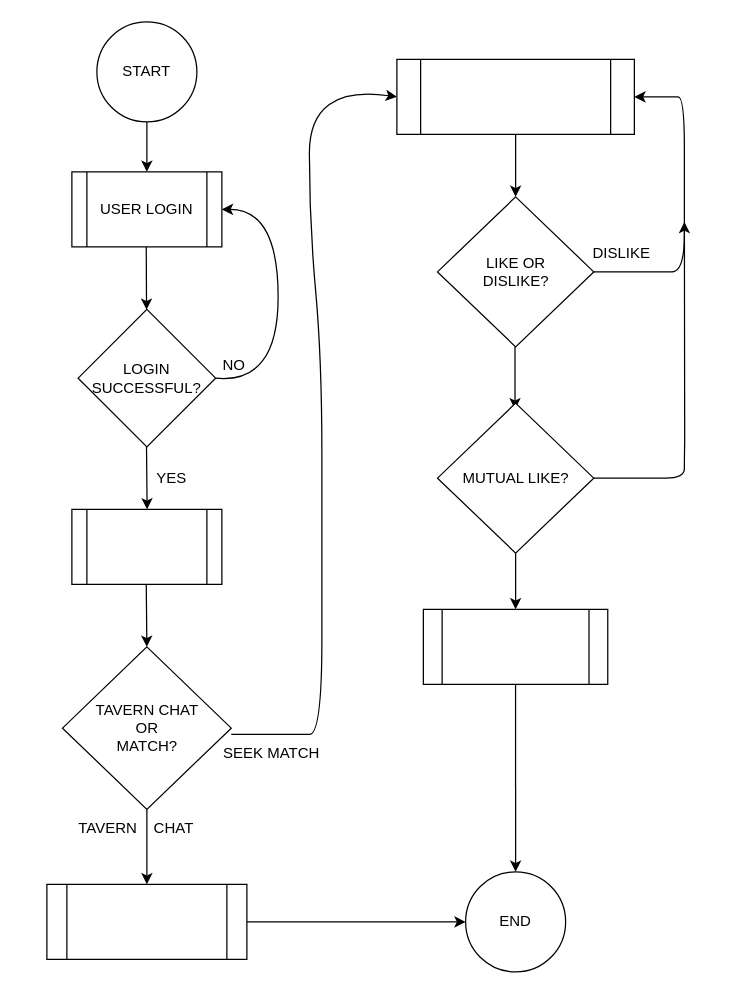
Some shapes in this 736 by 994 pixel diagram are drawn without their labels. The centre of each missing label's shape, as x and y in pixels:
"MATCH QUEUE" belongs at [515,96].
"MATCHED DM's" belongs at [515,646].
"PROFILE SETUP" belongs at [146,546].
"PUBLIC TAVERN BRAWL CHATROOM" belongs at [146,921].
